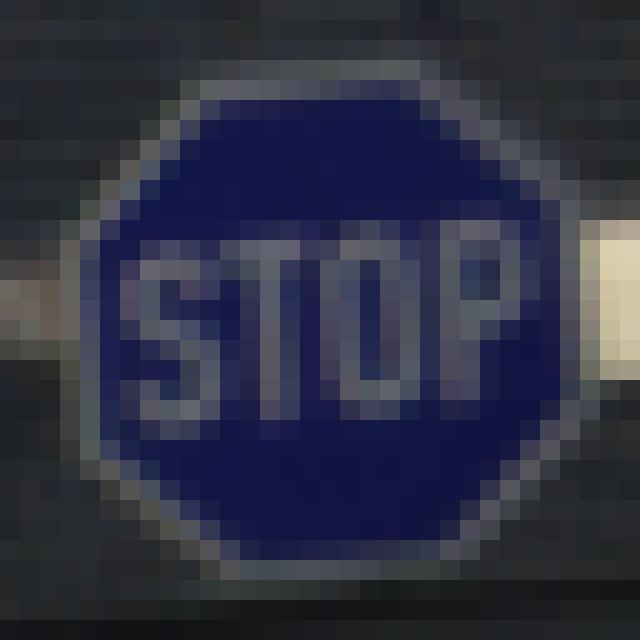STOP: (75, 69, 574, 572)
